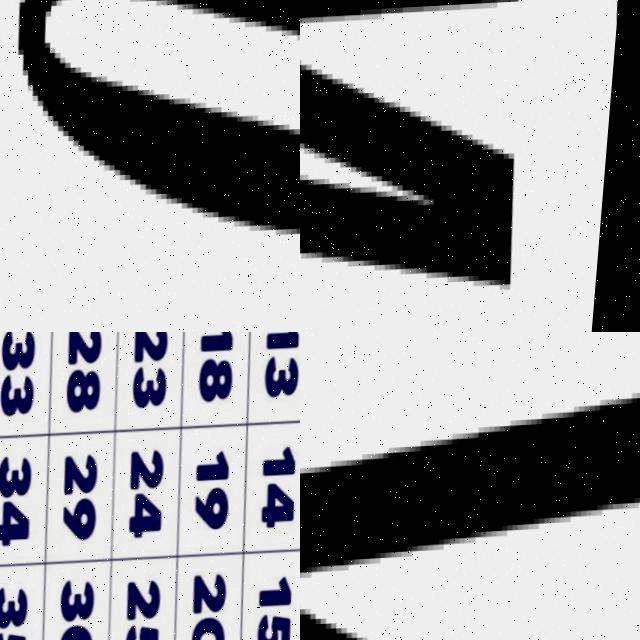0: (1, 0, 300, 264), (196, 617, 241, 640), (63, 618, 109, 640)
1: (198, 448, 243, 484), (263, 573, 300, 611), (264, 441, 300, 477), (199, 332, 244, 359), (266, 332, 300, 356)
2: (64, 449, 111, 496), (129, 576, 174, 624), (200, 570, 241, 618), (133, 446, 174, 493), (67, 332, 114, 366), (134, 332, 175, 366)
3: (0, 373, 46, 421), (1, 450, 44, 500), (132, 368, 177, 414), (64, 578, 109, 624), (0, 583, 41, 633), (0, 332, 43, 373), (263, 360, 300, 404)
4: (128, 488, 177, 546), (0, 501, 48, 555), (260, 484, 300, 532)
5: (261, 611, 300, 640), (130, 620, 174, 640), (0, 628, 44, 640)
8: (200, 357, 244, 409), (67, 366, 111, 418)
9: (67, 492, 107, 546), (197, 488, 240, 532)
M: (300, 0, 562, 312)
V: (300, 381, 640, 640)
